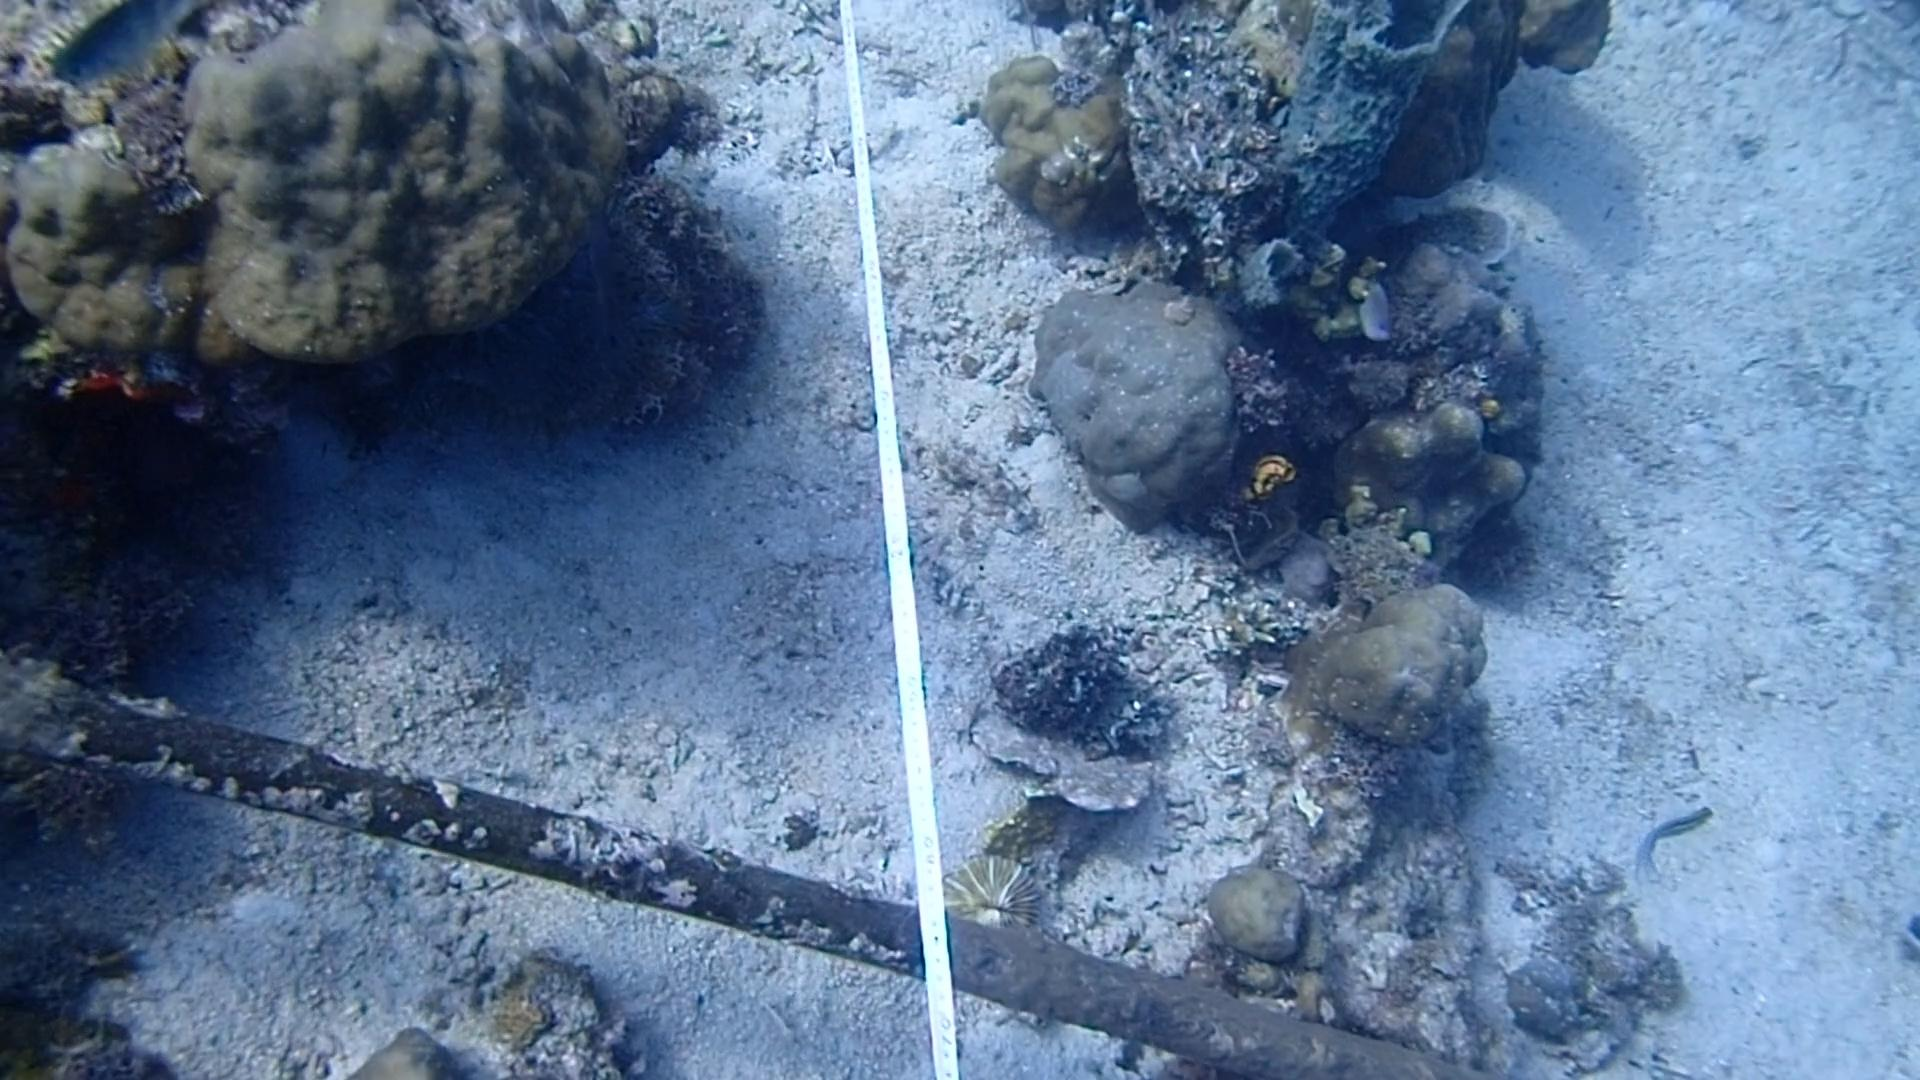Blue Fish: (50, 0, 196, 86)
Blue Nose Fish: (1352, 280, 1407, 343)
Dark Fish: (578, 202, 617, 315)
Striped Fish: (1633, 803, 1709, 891)
